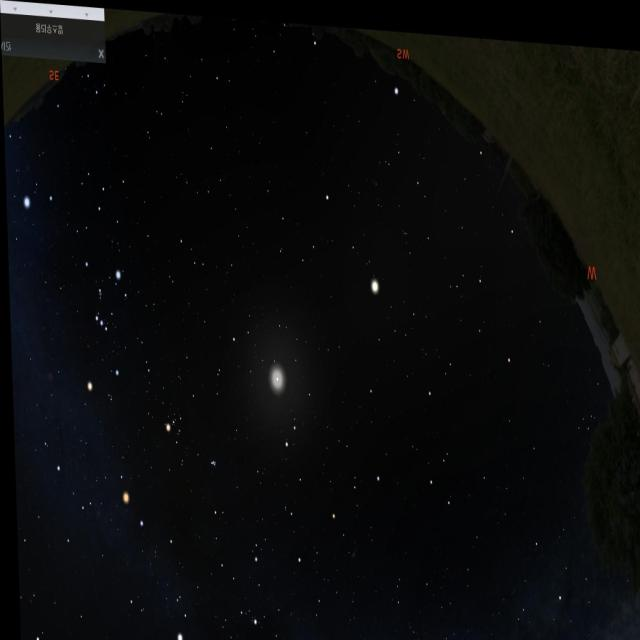canis_major: (3, 123, 52, 222)
moon: (258, 338, 298, 402)
orion: (72, 248, 131, 398)
pleiades: (197, 442, 218, 476)
taurus: (154, 394, 220, 480)
